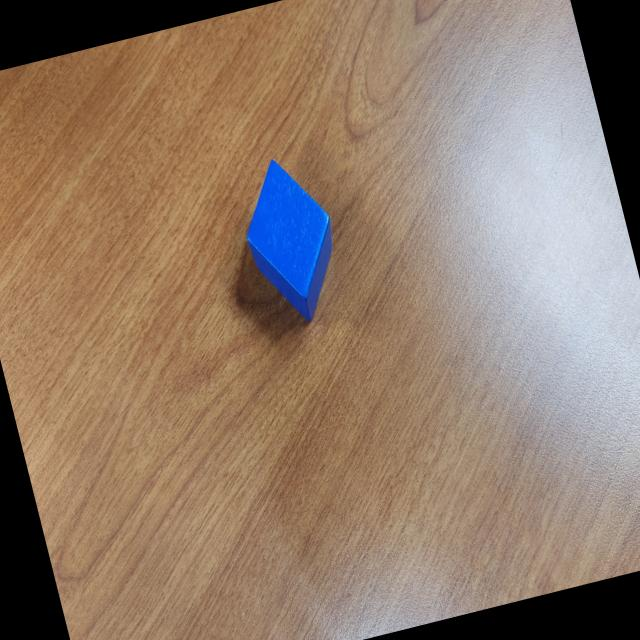blue: (229, 148, 354, 332)
